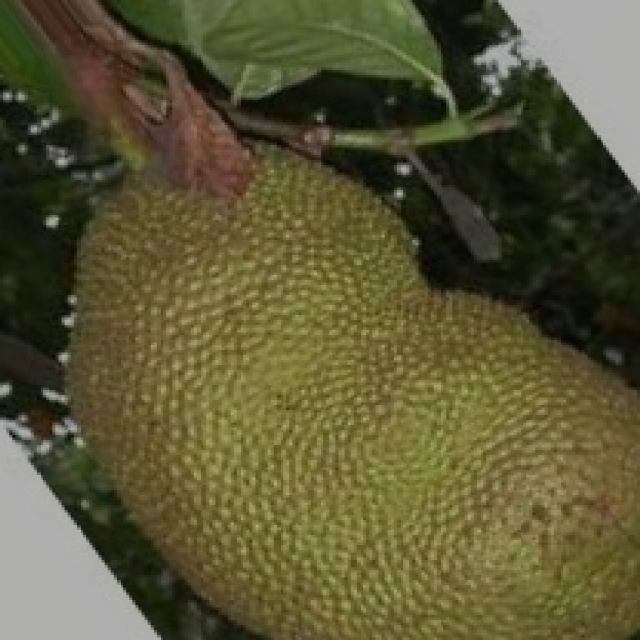Fruit: (280, 237, 637, 640)
